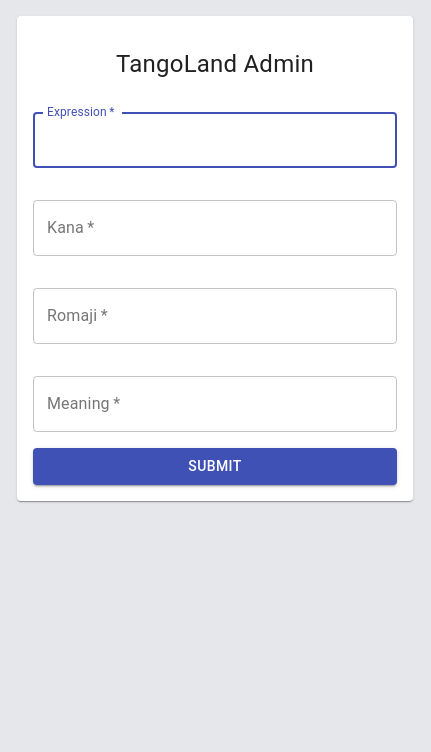
Test: App › error after submit
This screenshot has width=431, height=752.
Type "error" into the field labelled "Expression *" at {"x": 215, "y": 140}, box 33,112 -> 397,168
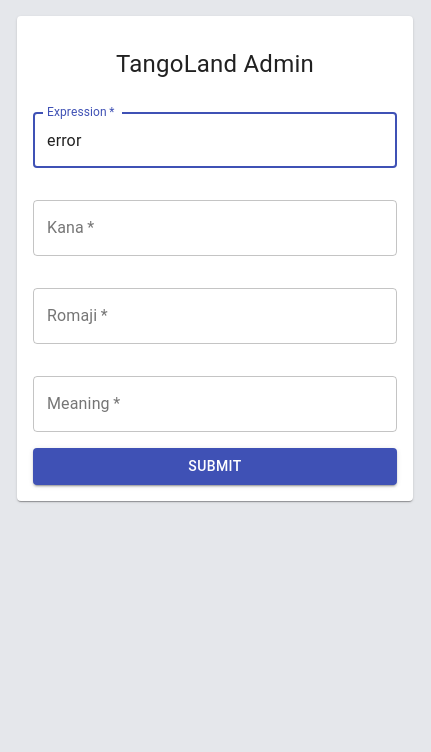
Type "error" into the field labelled "Kana *" at {"x": 215, "y": 228}, box 33,200 -> 397,256
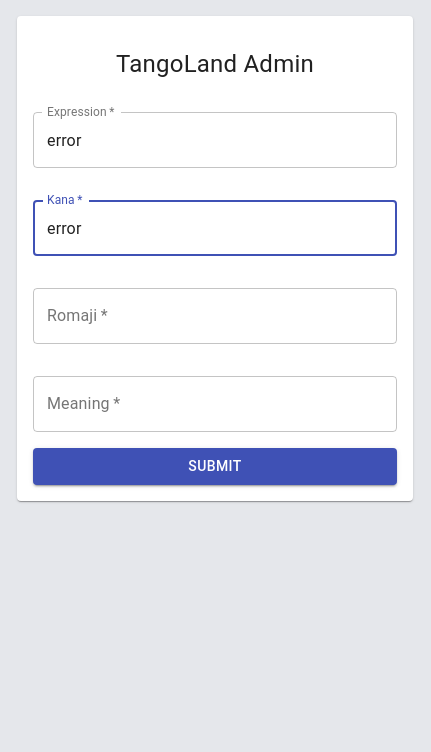
Type "error" into the field labelled "Romaji *" at {"x": 215, "y": 316}, box 33,288 -> 397,344
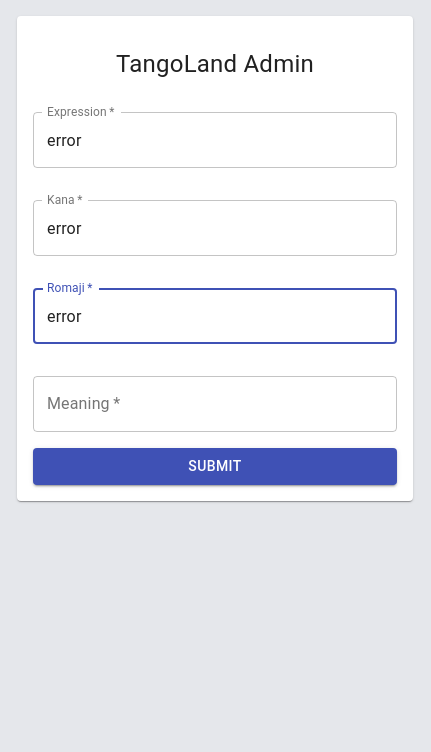
Type "error" into the field labelled "Meaning *" at {"x": 215, "y": 404}, box 33,376 -> 397,432
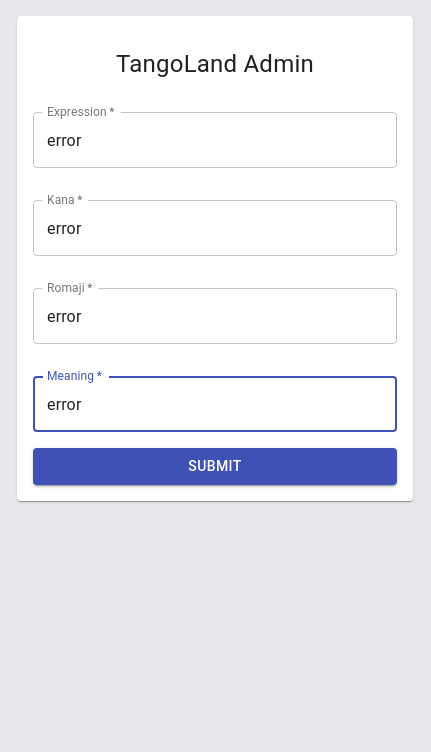
Click the button at {"x": 215, "y": 466}, box 33,448 -> 397,484
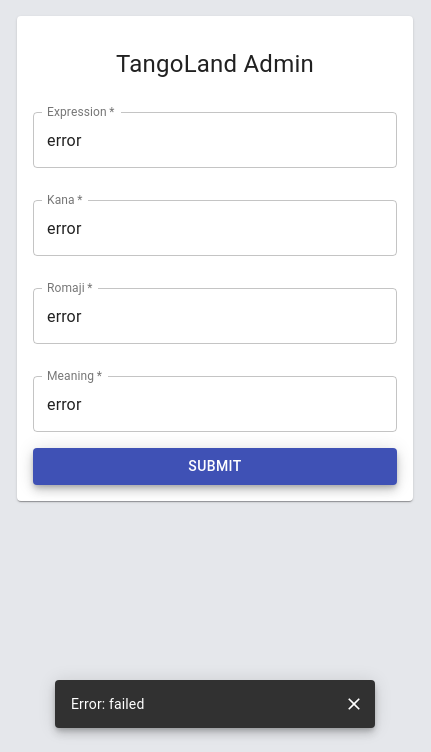
Now the message "Error: failed" is shown, box 55,680 -> 375,728
Now the message shows "Error", box 71,696 -> 144,712
